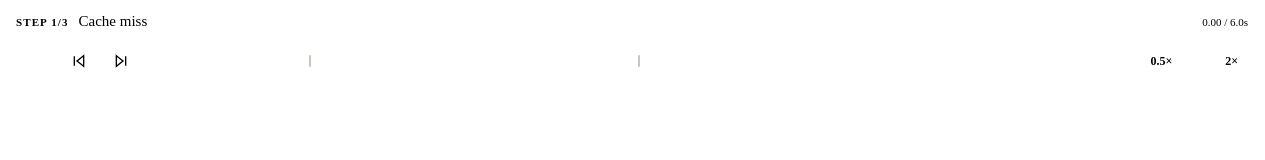
Test: PlayerComponent › switches speed and shows it next to the time
Click the button "2×".
click(1232, 61)  # box [1215,45,1248,77]
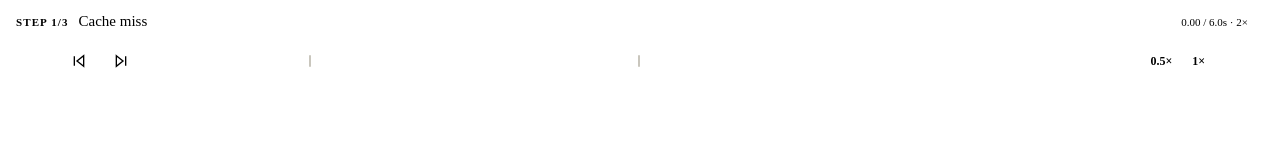
Result: the text with class "time" shows "2×" at [1181,16,1248,28]
